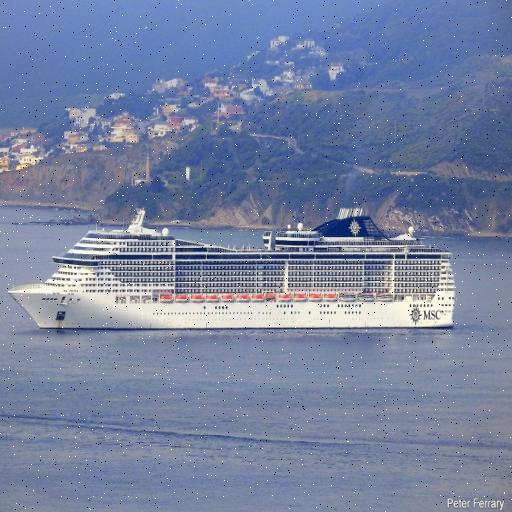cruises: (9, 200, 464, 337)
